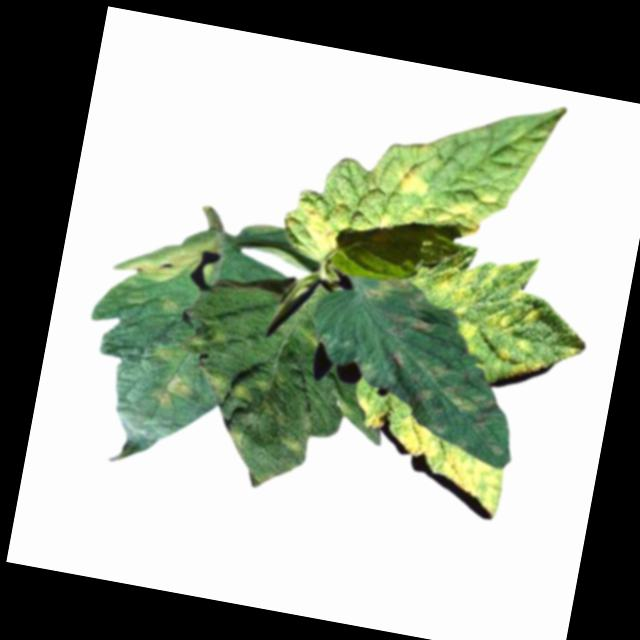Leaf_Mold: (420, 239, 600, 392), (339, 398, 512, 519), (376, 345, 521, 456), (113, 220, 220, 294), (356, 272, 441, 341), (195, 362, 276, 419), (284, 198, 345, 257), (382, 138, 439, 200), (147, 369, 196, 418), (431, 198, 484, 240), (276, 428, 312, 465), (376, 206, 394, 230)
